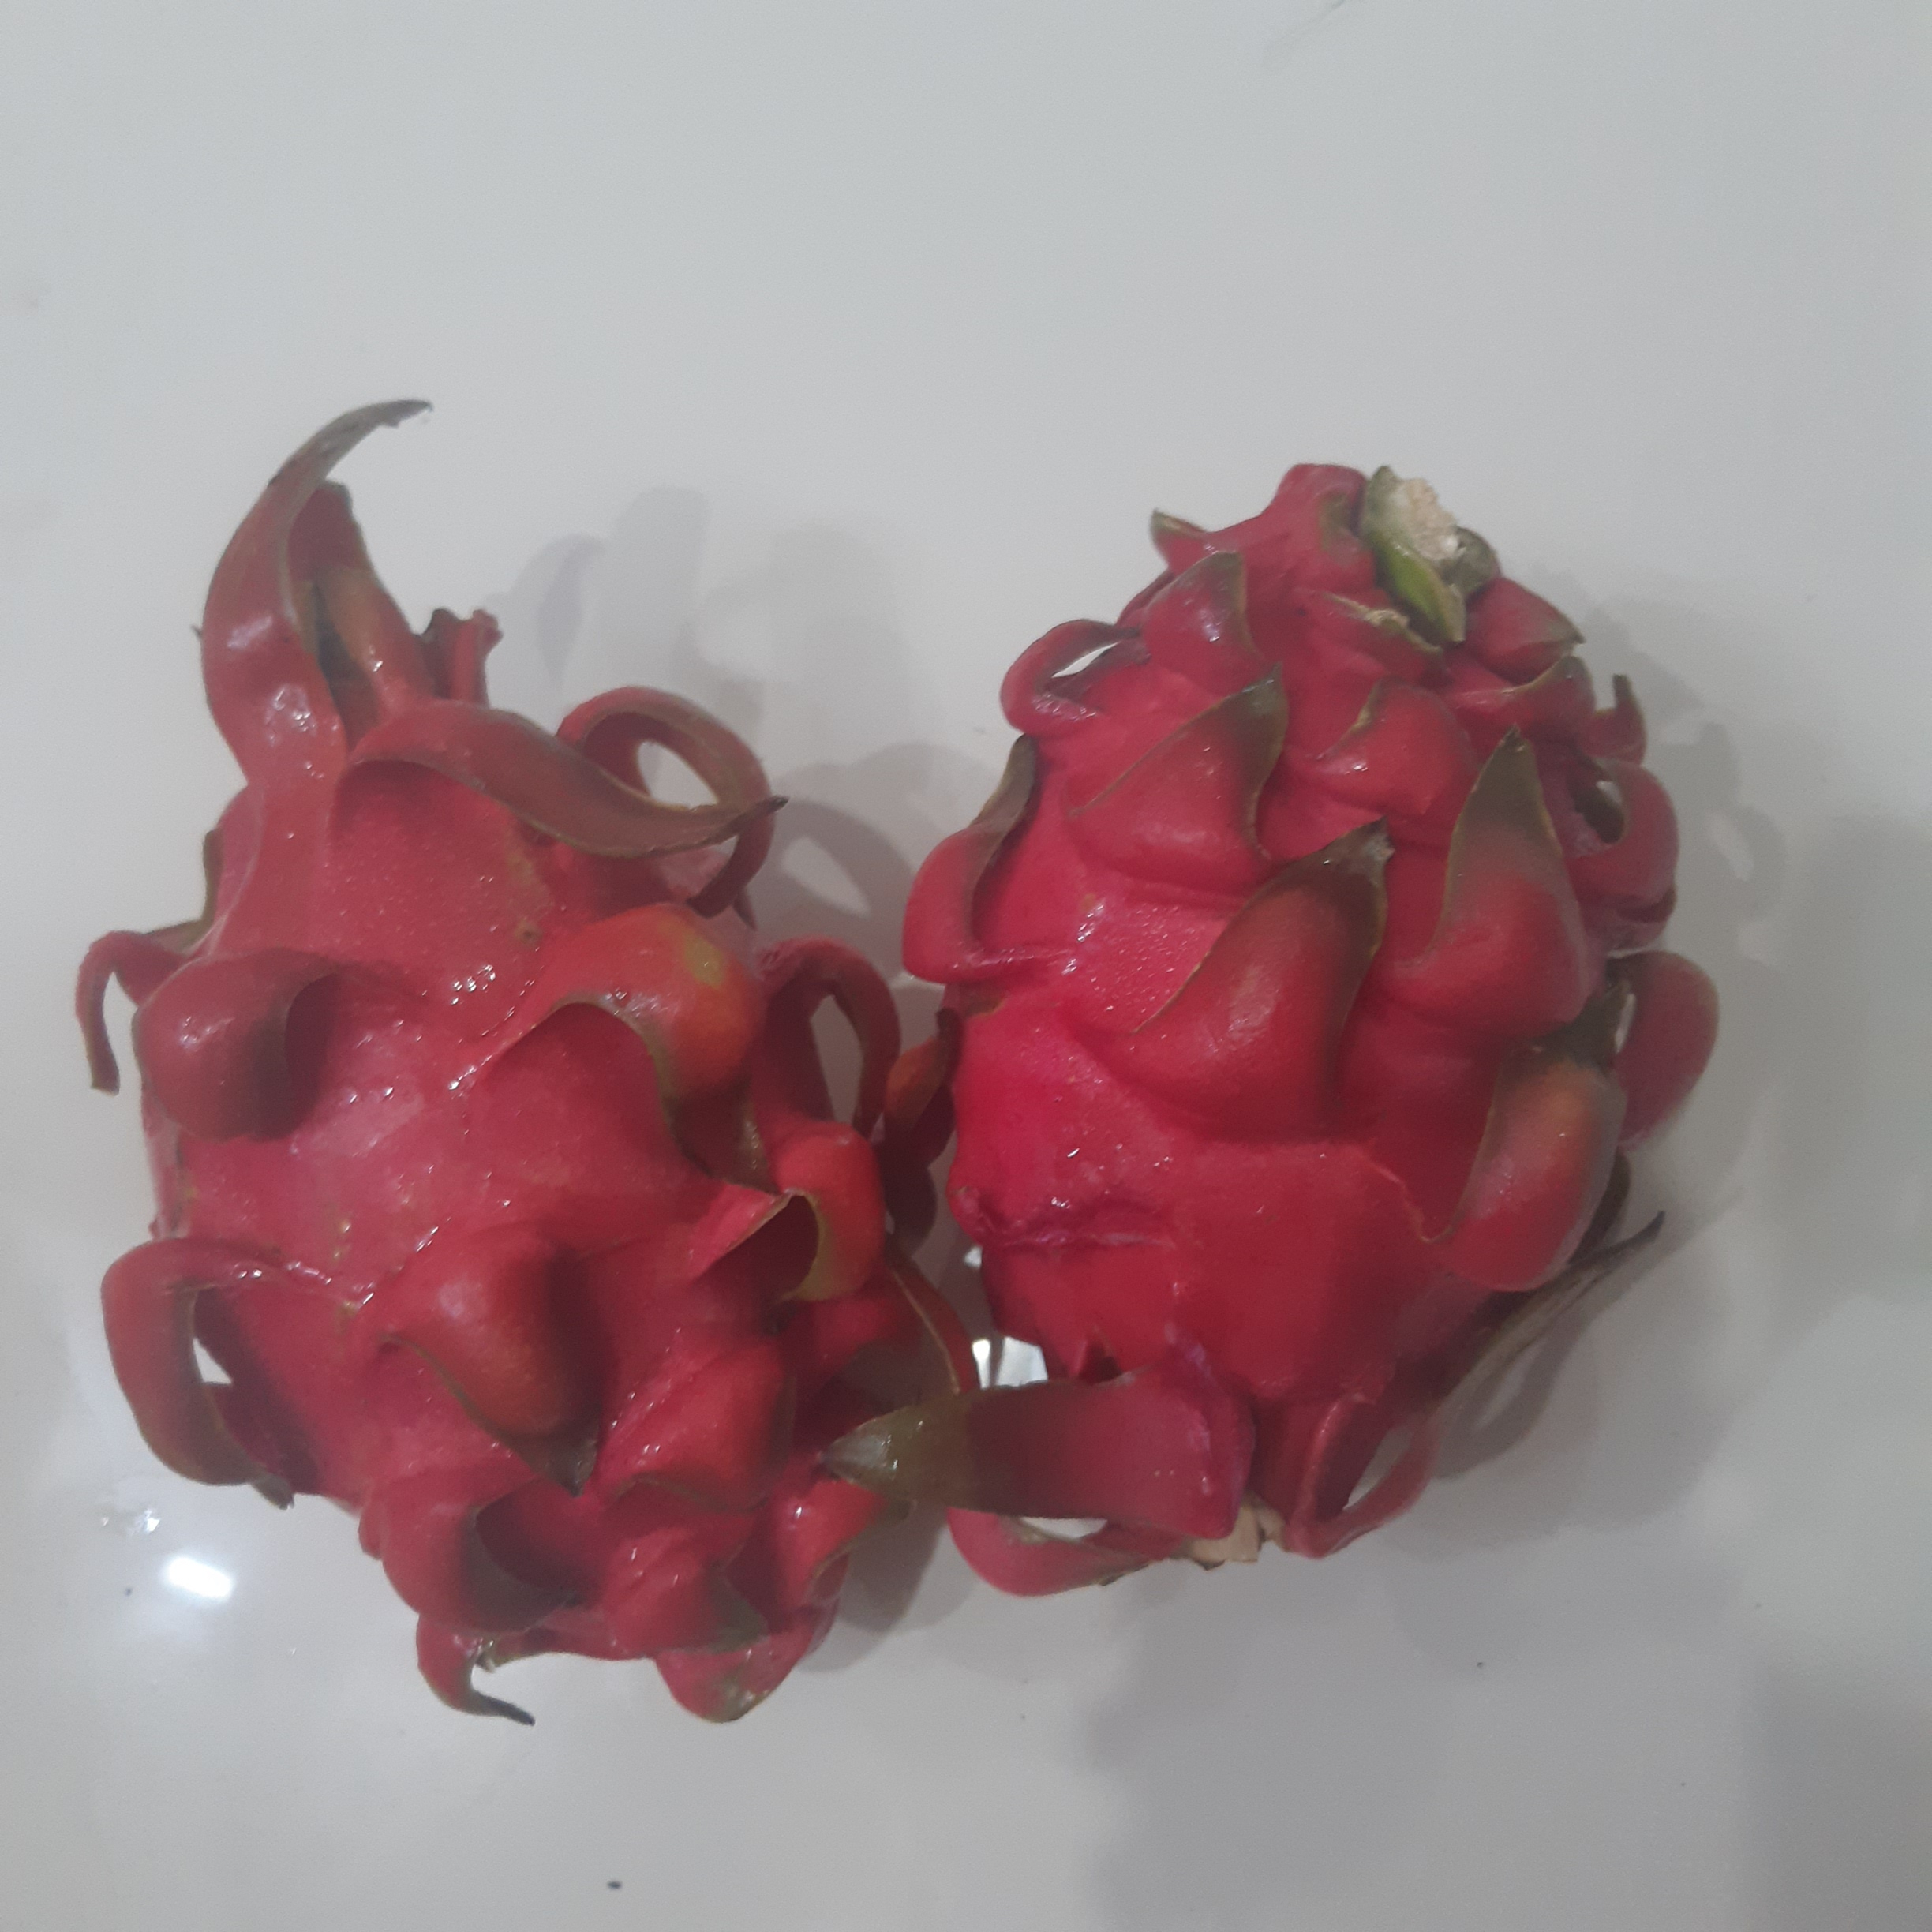Thanh long: (911, 451, 1672, 1537), (127, 649, 920, 1684)
